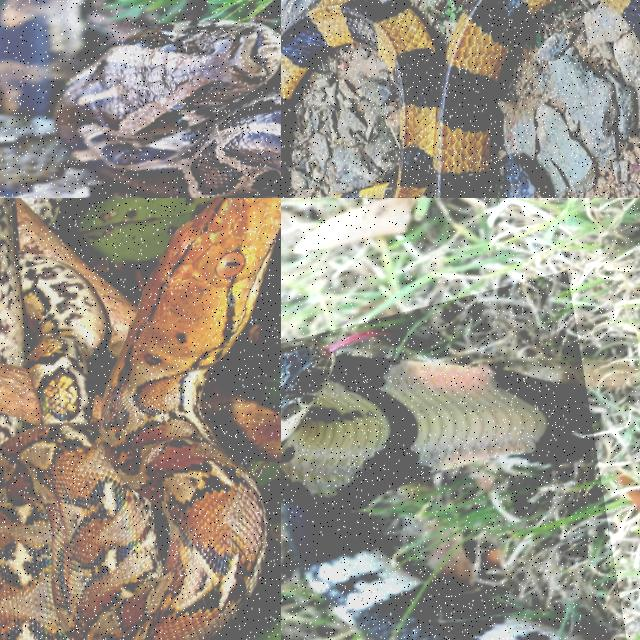Bungarus fasciatus: (281, 0, 552, 197)
Malayopython reticulatus: (0, 198, 280, 639)
Naja siamensis: (281, 329, 593, 639)
Python bivittatus: (0, 0, 280, 197)
snake: (0, 198, 280, 639), (281, 329, 593, 639), (0, 0, 280, 197), (281, 0, 552, 197)
